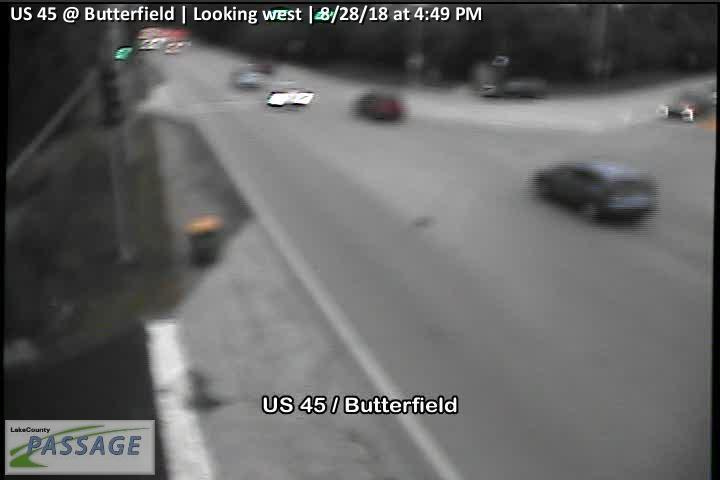SUV: (535, 157, 660, 223)
